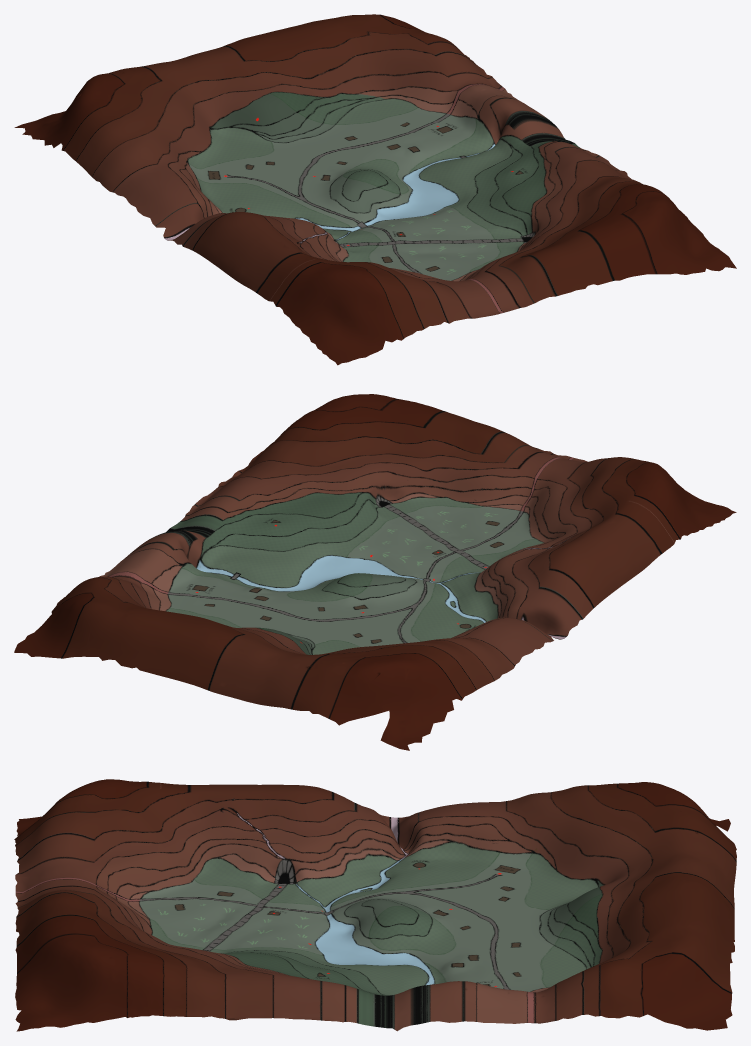
File: Kuvapeli_kartta5.fbx
3 views of the same model, one above another, from view 1: azimuth 30°, elevation 25°; view 2: azimuth 150°, elevation 25°; view 3: azimuth 270°, elevation 25° (orthographic). The views are drawn at different scales.
Parts seen in each view (by area): view 1: kartta2.height; view 2: kartta2.height; view 3: kartta2.height.
Part boxes in pixels (box(x1,y1,x2,y2)): kartta2.height: box(14, 14, 736, 365); kartta2.height: box(14, 394, 736, 750); kartta2.height: box(14, 779, 736, 1031).
Size of the model in its own units: 42738 by 6324 by 60284.
